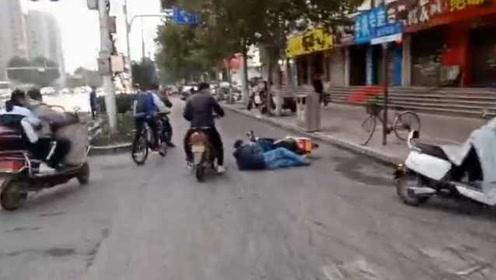Fall-Detected: (227, 125, 315, 171)
